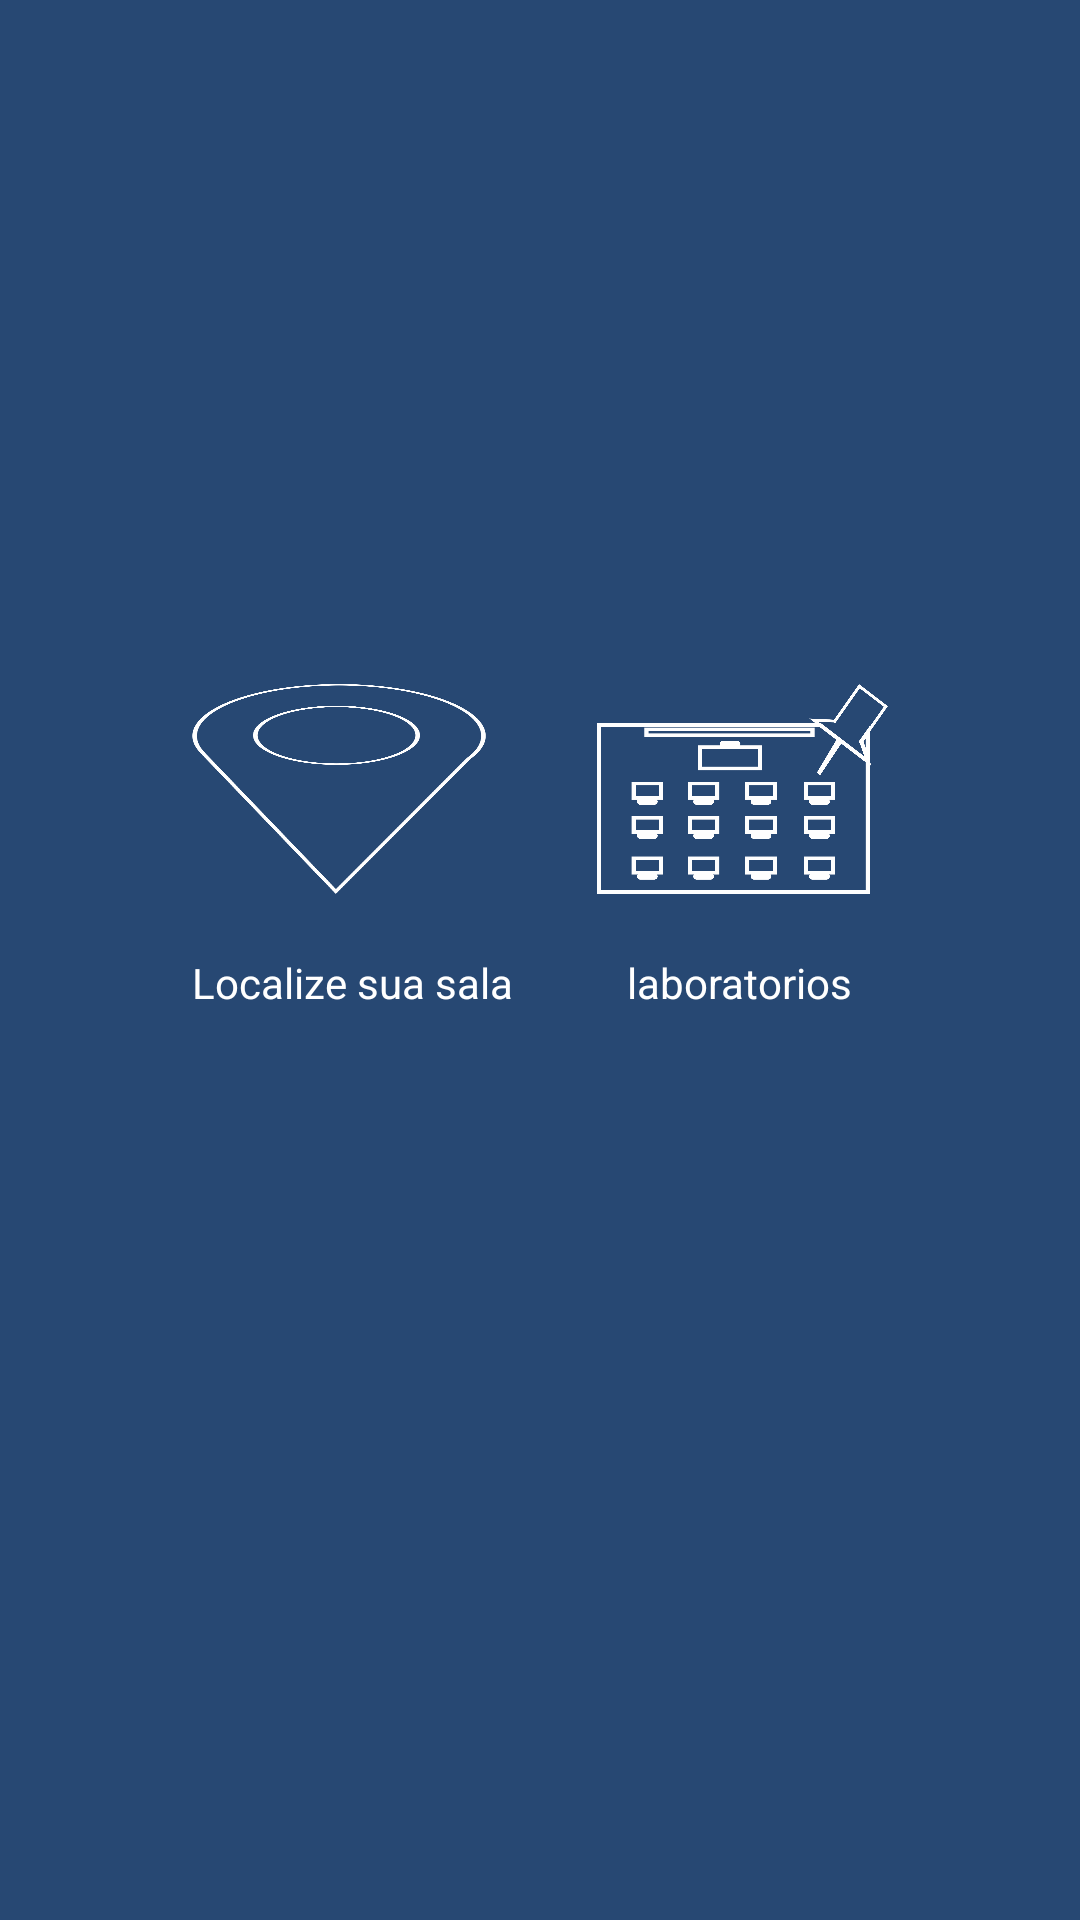

Screen size 1080 × 1920. Icon name, then its center in pixels as (x=x, y=y):
alfineteloc: (x=339, y=789)
salafixa: (x=742, y=789)
